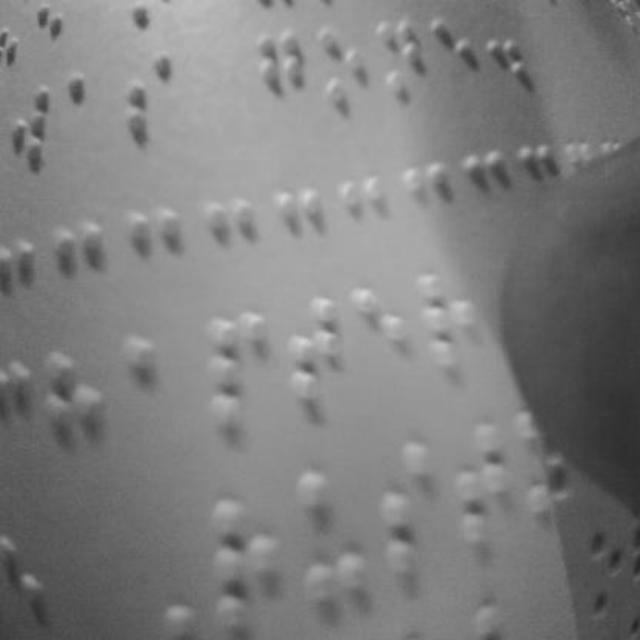braiile: (296, 458, 374, 610), (207, 492, 283, 640), (378, 432, 450, 586), (202, 304, 272, 440), (418, 263, 487, 392), (452, 412, 512, 558), (351, 276, 415, 412), (282, 288, 348, 417), (38, 347, 108, 465), (124, 328, 184, 454), (1, 76, 61, 188), (121, 37, 177, 155), (254, 20, 308, 126), (312, 22, 368, 120), (62, 61, 108, 168), (378, 10, 424, 111), (431, 11, 475, 101)
